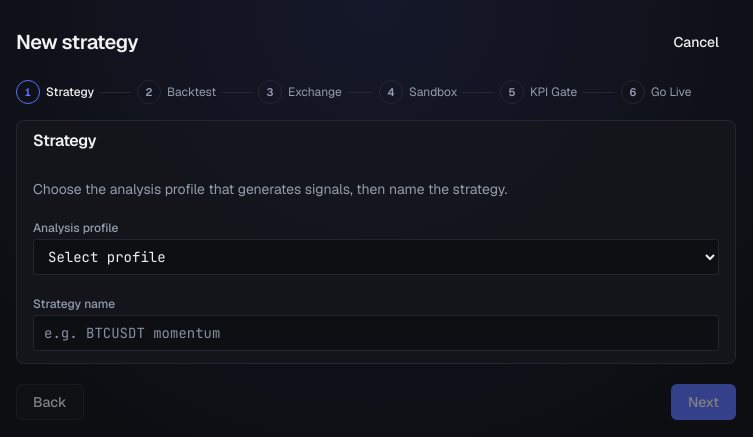
Test: LaunchWizard shell › enables Next once a profile is selected and advances to Backtest
The image size is (753, 437).
Step 1. Select "BTCUSDT" in the dropdown → (376, 257), box [33, 239, 719, 275]
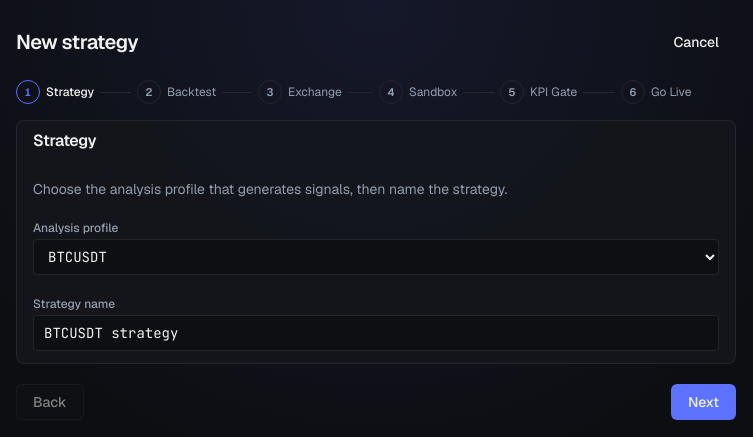
Expected: the button "Next" is enabled
Step 2. Click the button "Next" → (703, 402), box [671, 384, 736, 420]
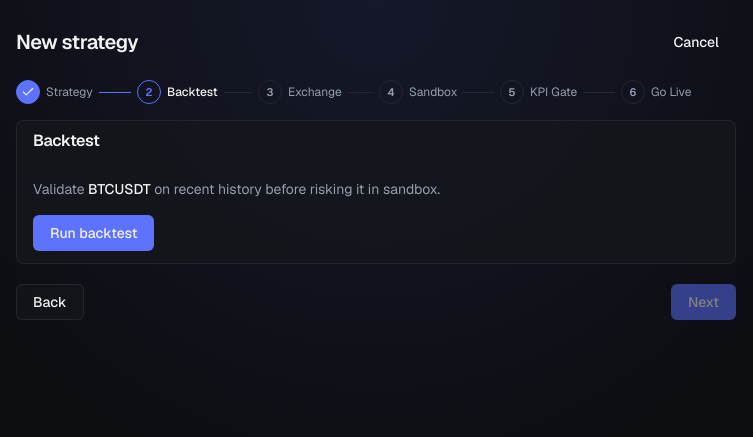
Expected: the button "Run backtest" is shown, [33, 215, 154, 251]
